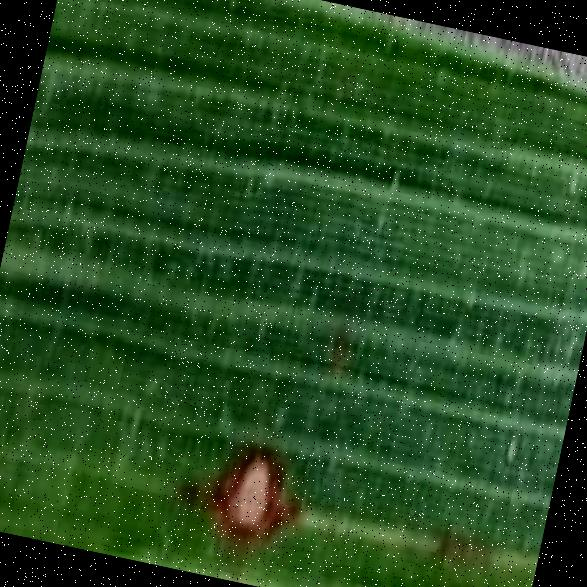Leaf_smut: (133, 410, 365, 587)
